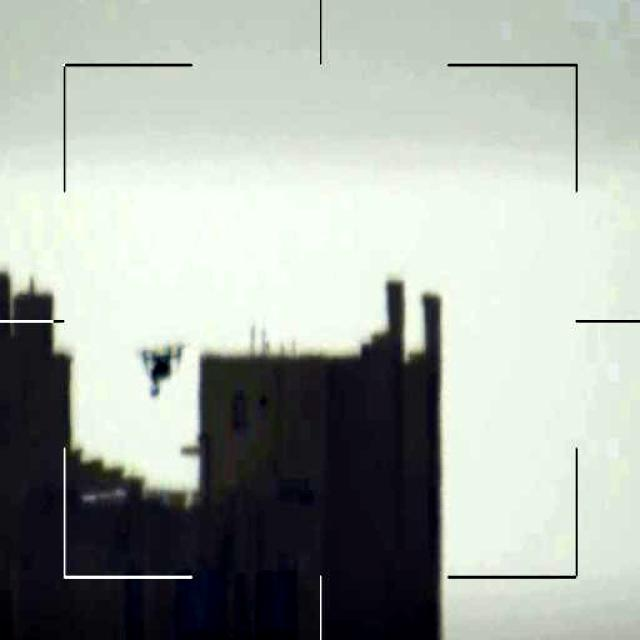bird: (136, 334, 189, 401)
